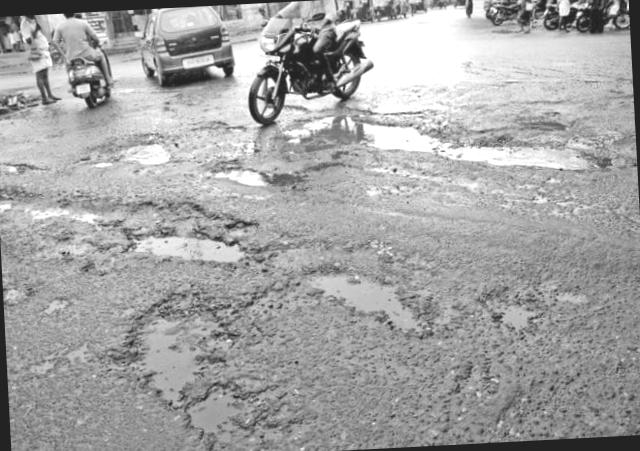Pothole: (292, 92, 612, 194), (105, 274, 282, 451), (0, 173, 278, 280), (294, 250, 472, 328), (196, 151, 312, 204), (85, 132, 185, 182)
